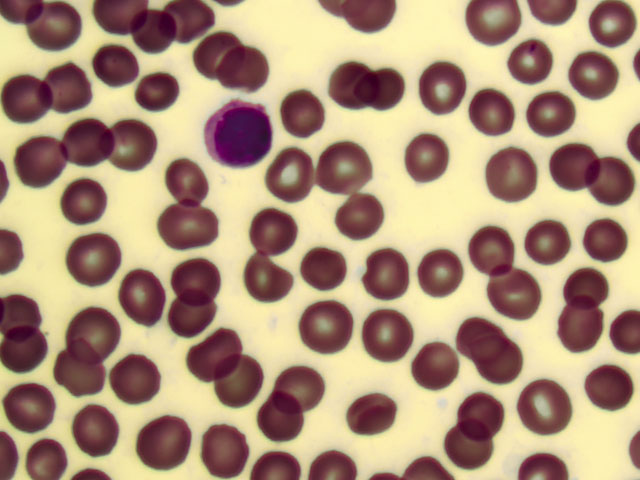RBC: (26, 3, 83, 59), (43, 60, 100, 116), (89, 44, 146, 100), (128, 64, 185, 120), (129, 7, 186, 63), (183, 18, 240, 74), (211, 47, 268, 103), (103, 118, 160, 174), (58, 121, 115, 177), (16, 138, 73, 194), (53, 178, 110, 234), (68, 229, 125, 285), (63, 306, 120, 362), (46, 354, 103, 410), (2, 383, 59, 439), (28, 424, 85, 480), (69, 406, 126, 462), (107, 352, 164, 408), (116, 267, 173, 323), (172, 247, 229, 303), (163, 285, 220, 341), (162, 197, 219, 253), (158, 160, 215, 216), (240, 206, 297, 262), (233, 255, 290, 311), (184, 328, 241, 384), (208, 350, 265, 406), (135, 416, 192, 472), (189, 420, 246, 476), (254, 395, 311, 451), (281, 367, 338, 423), (297, 300, 354, 356), (304, 244, 361, 300), (332, 184, 389, 240), (324, 138, 381, 194), (266, 146, 323, 202), (276, 77, 333, 133), (322, 57, 379, 113), (366, 57, 423, 113), (419, 53, 476, 109), (461, 80, 518, 136), (410, 135, 467, 191), (489, 148, 546, 204), (528, 80, 585, 136), (511, 28, 568, 84), (566, 48, 623, 104), (549, 139, 606, 195), (578, 152, 635, 208), (575, 209, 632, 265), (525, 211, 582, 267), (462, 222, 519, 278), (414, 243, 471, 299), (360, 247, 417, 303), (352, 305, 409, 361), (406, 340, 463, 396), (450, 307, 507, 363), (473, 335, 530, 391), (494, 258, 551, 314), (567, 255, 624, 311), (553, 301, 610, 357), (574, 353, 631, 409), (519, 373, 576, 429), (449, 383, 506, 439), (447, 419, 504, 475), (348, 385, 405, 441), (1, 69, 57, 125), (1, 321, 57, 377), (163, 1, 220, 56), (471, 1, 528, 56), (583, 1, 640, 56)
WBC: (201, 96, 272, 176)
